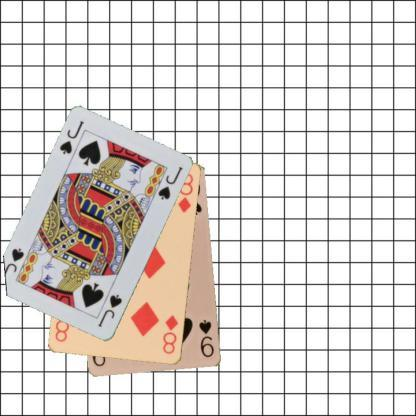8d: (160, 312, 180, 356)
9s: (197, 317, 216, 359)
Js: (57, 118, 86, 156), (95, 292, 124, 329)
